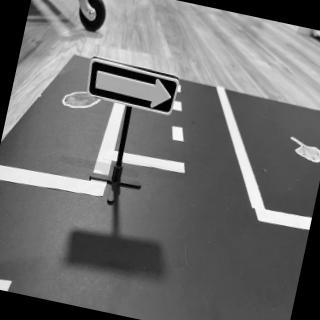sign_oneway_right: (83, 56, 182, 117)
